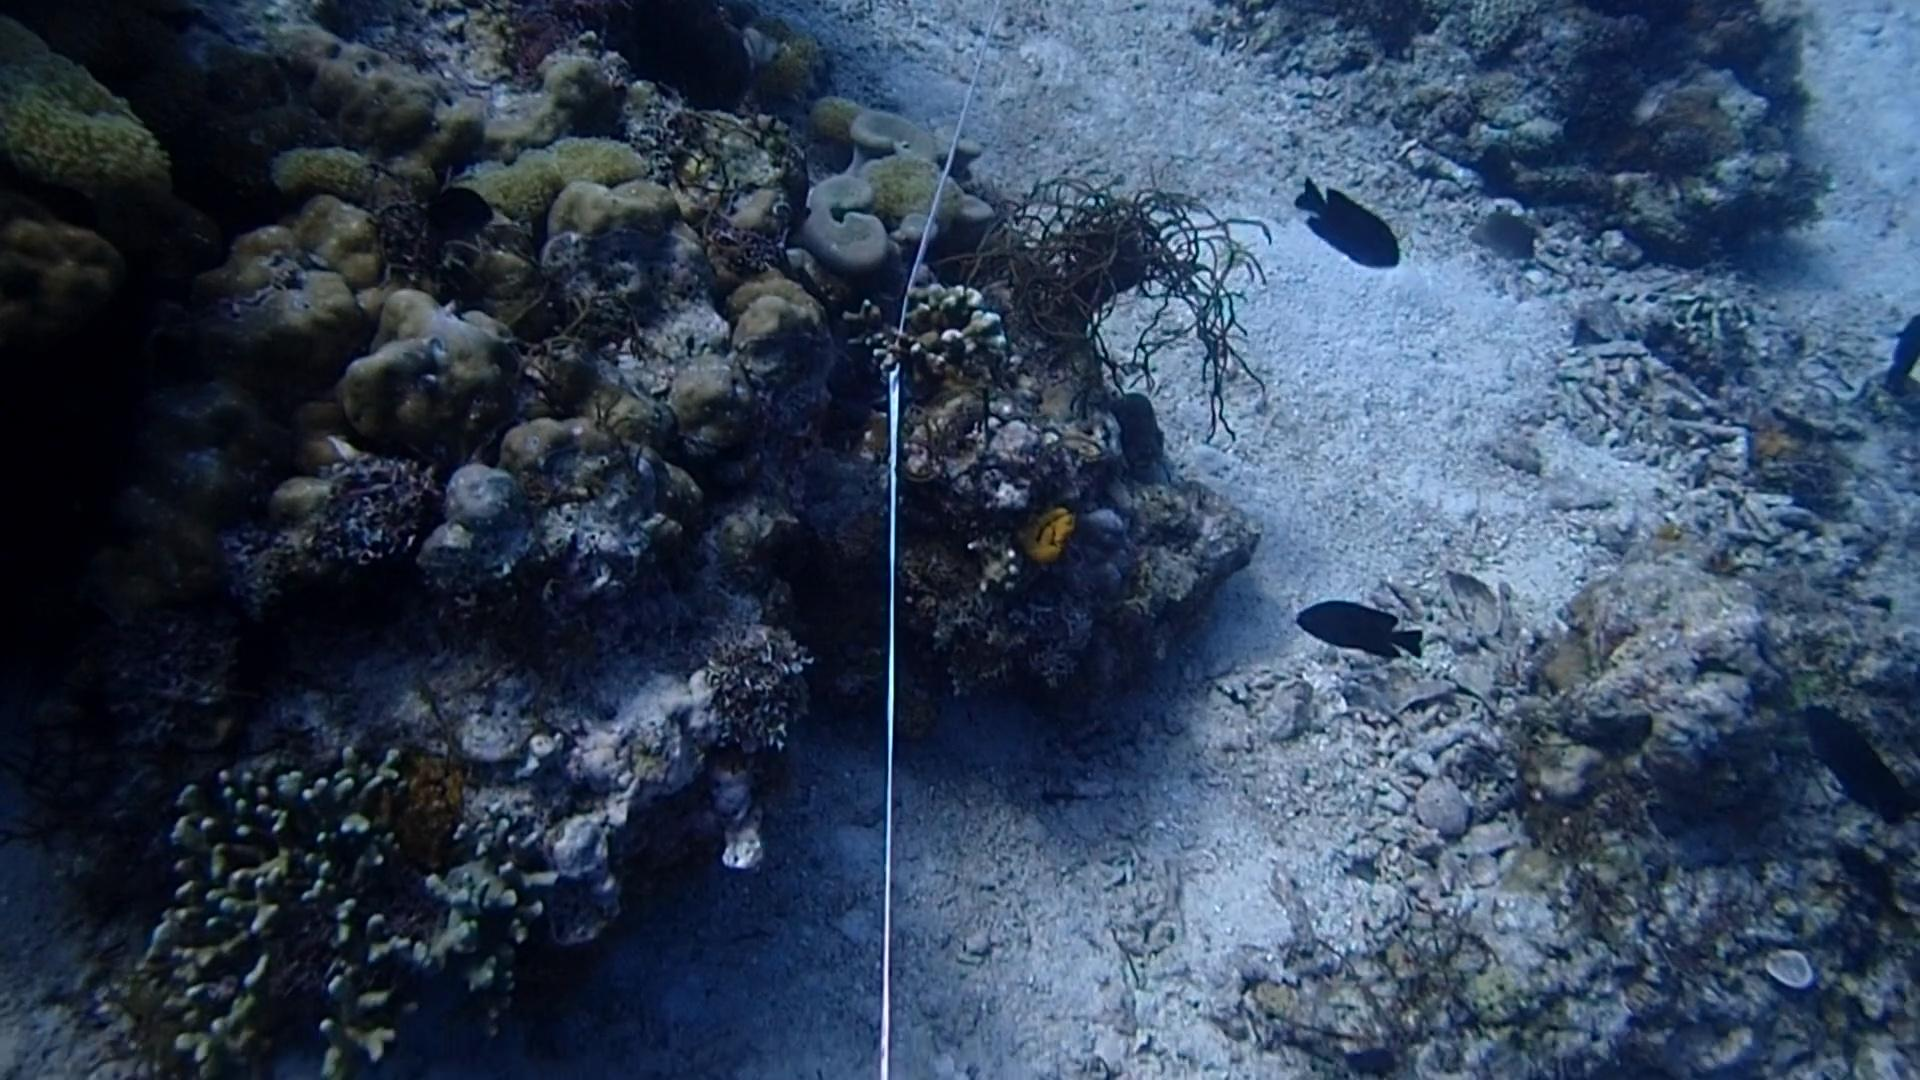Dark Fish: (1796, 688, 1907, 832), (1279, 167, 1406, 284), (1279, 591, 1441, 671), (1830, 828, 1907, 915), (1876, 295, 1920, 396)
Light Fish: (1460, 195, 1547, 276)
